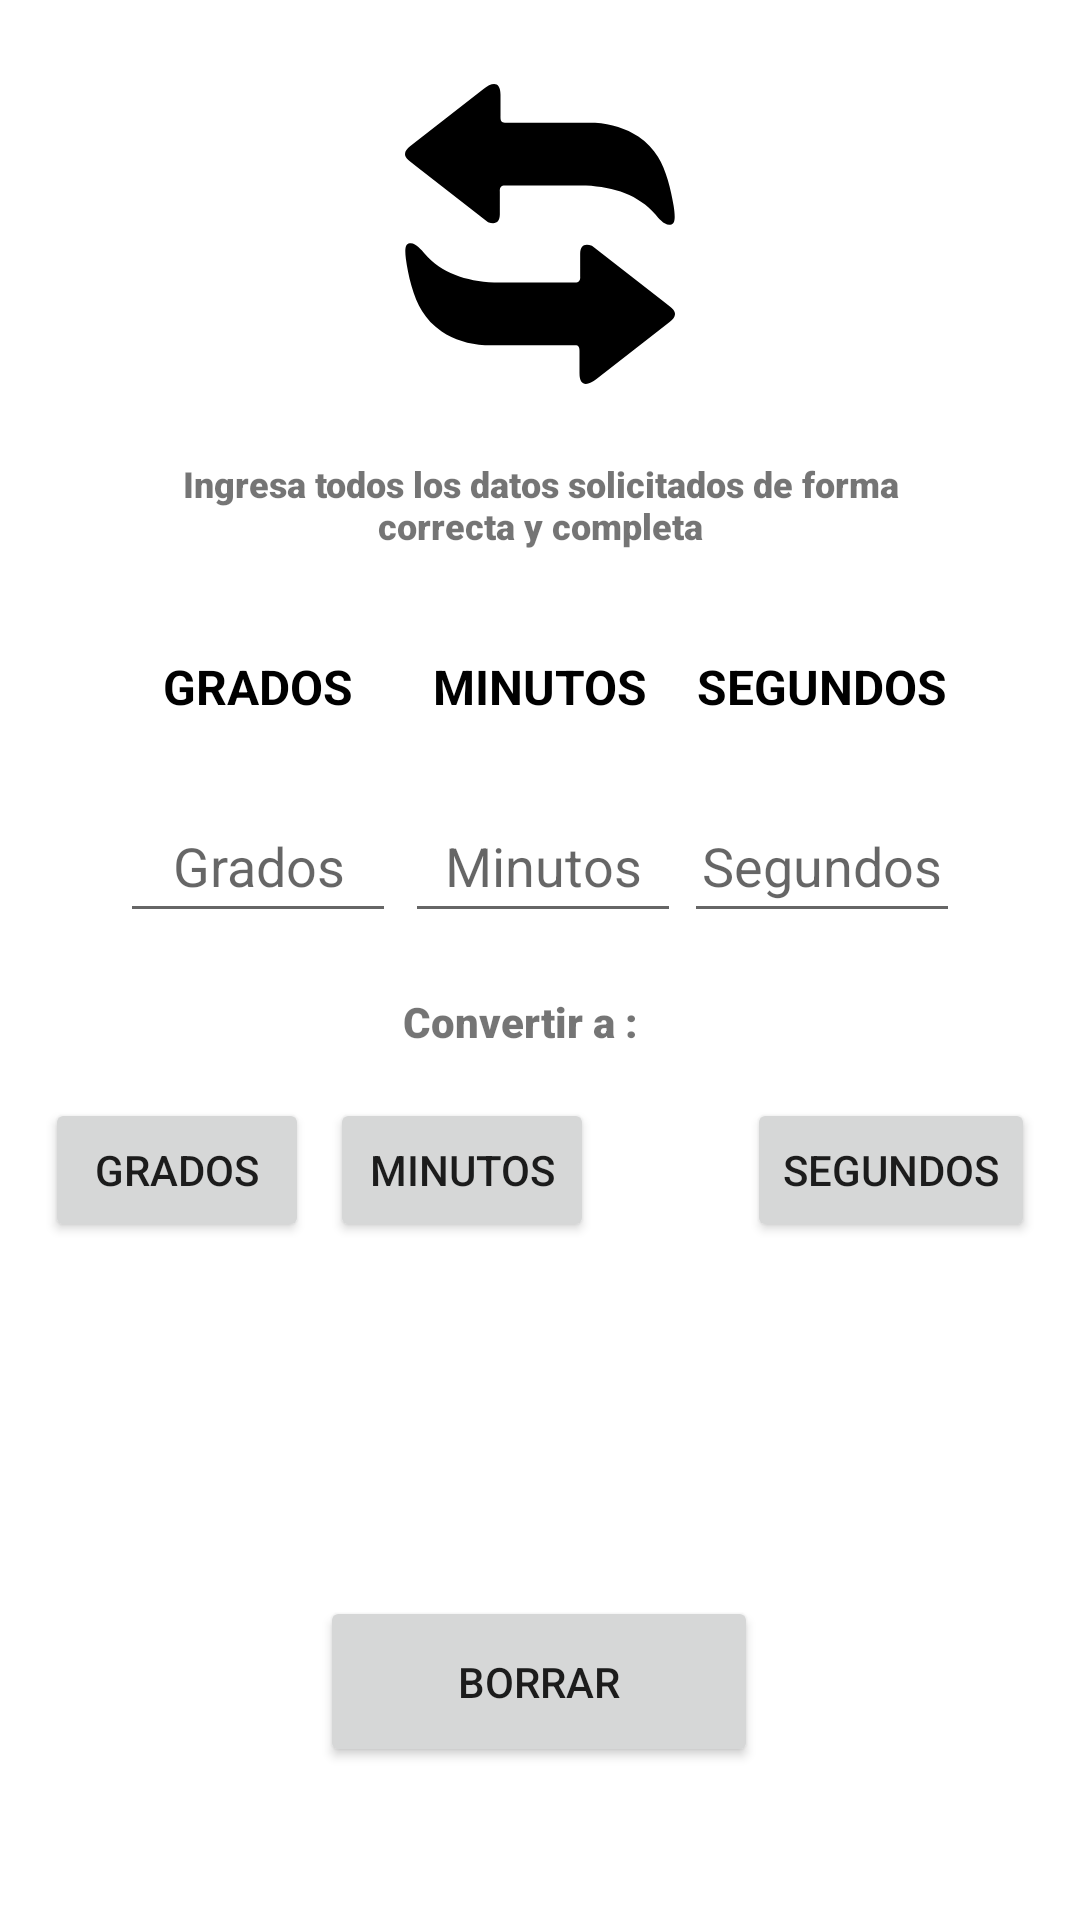

Point at icon controls on the screen. Image size 1080w x 1920h, points as point (x, y).
convertir: point (540, 234)
